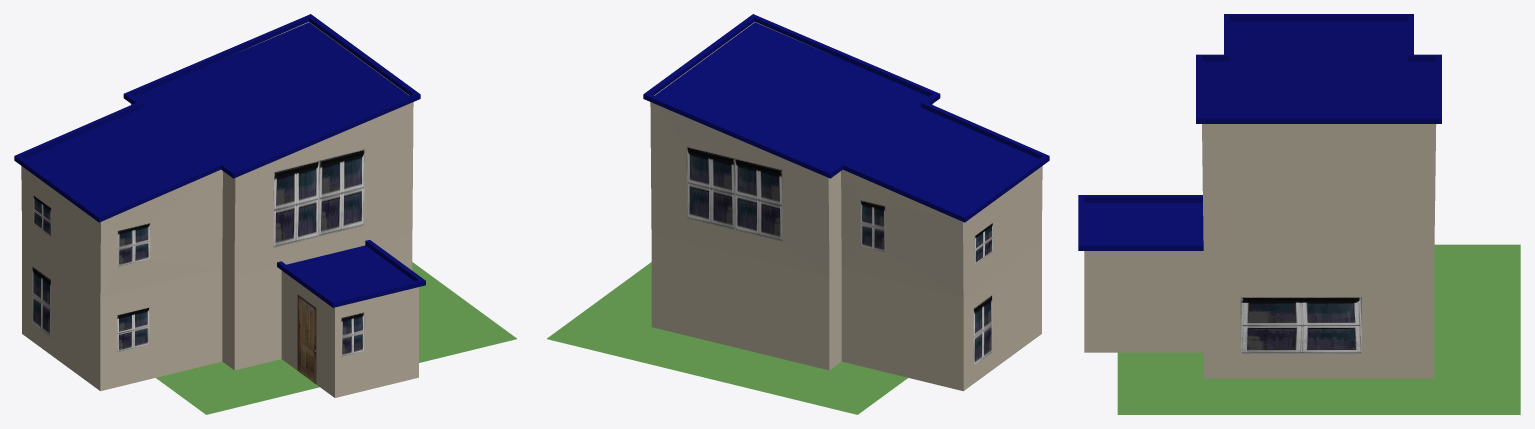
Rendered from House.005.gltf.
3 views of the same model, side by side, from view 1: azimuth 30°, elevation 25°; view 2: azimuth 150°, elevation 25°; view 3: azimuth 270°, elevation 25° (orthographic). The views are drawn at different scales.
Visible parts, largest first — view 1: building_016, Plane.008; view 2: building_016, Plane.008; view 3: building_016, Plane.008.
Part boxes in pixels (left/top/right/bottom): building_016: left=14, top=14, right=425, bottom=397; Plane.008: left=156, top=262, right=516, bottom=414; building_016: left=643, top=14, right=1049, bottom=391; Plane.008: left=547, top=262, right=907, bottom=414; building_016: left=1078, top=14, right=1441, bottom=378; Plane.008: left=1117, top=244, right=1520, bottom=414.
Bounding box in the file's own units: 8.34 × 5.03 × 7.68.
5 materials, 2 textured.
